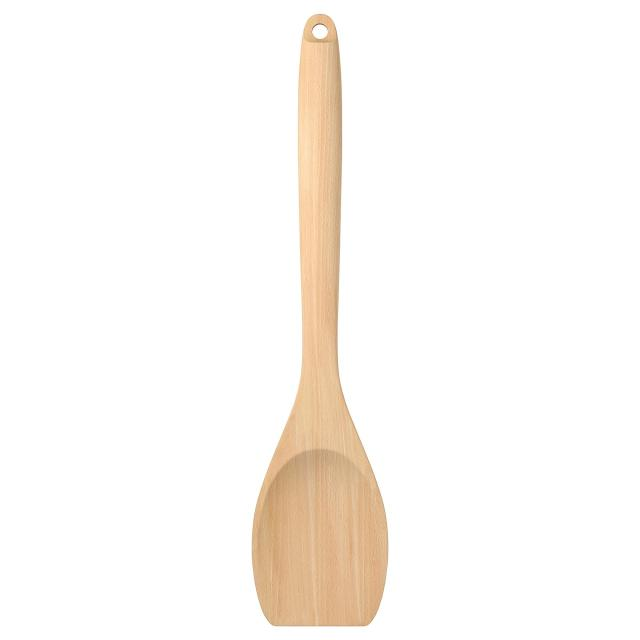spoon: (229, 8, 397, 640)
